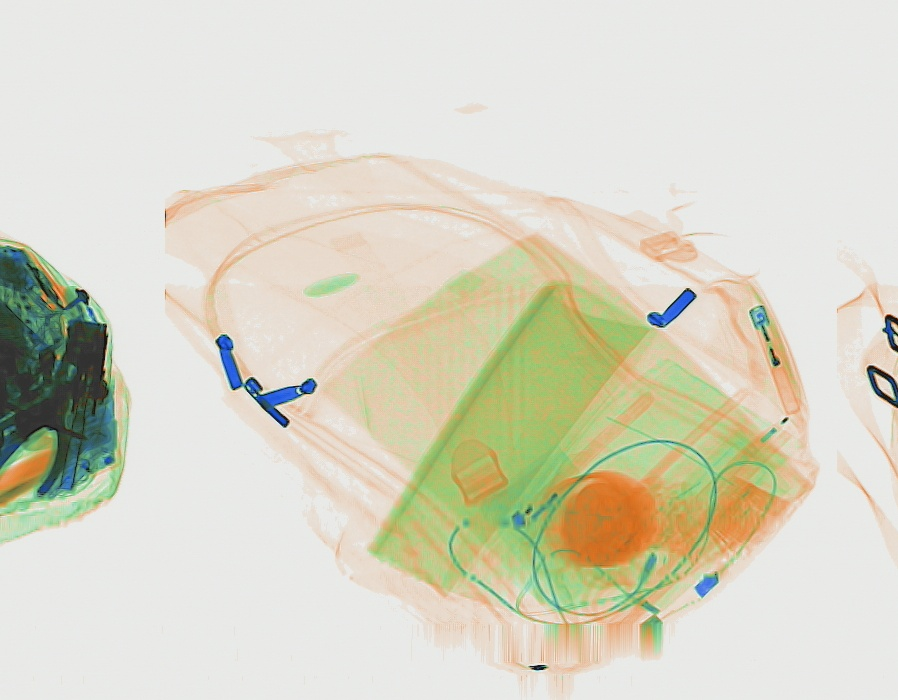lighter: (747, 302, 810, 416)
